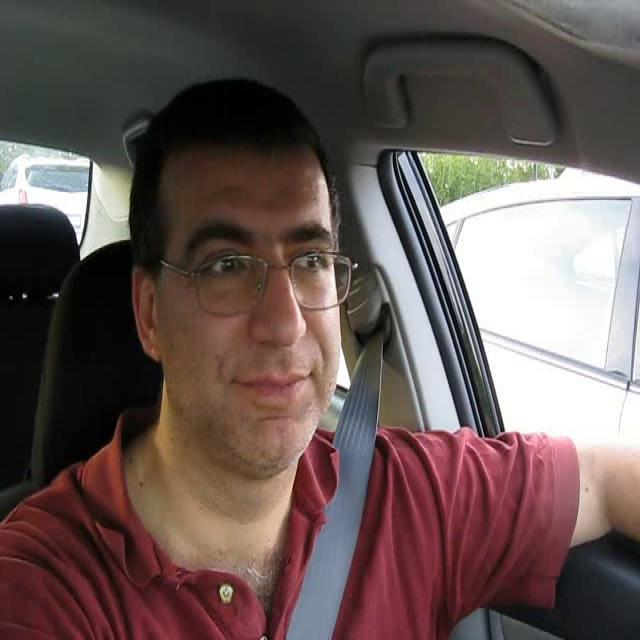close: (229, 368, 314, 406)
